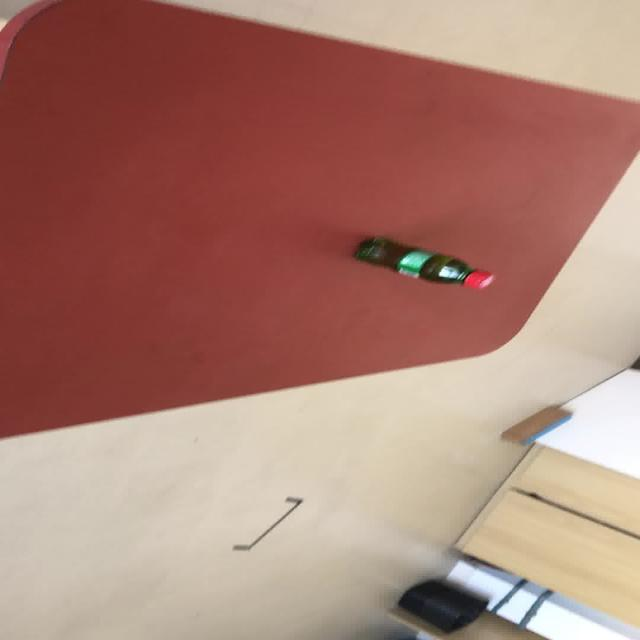guarana: (352, 235, 494, 290)
